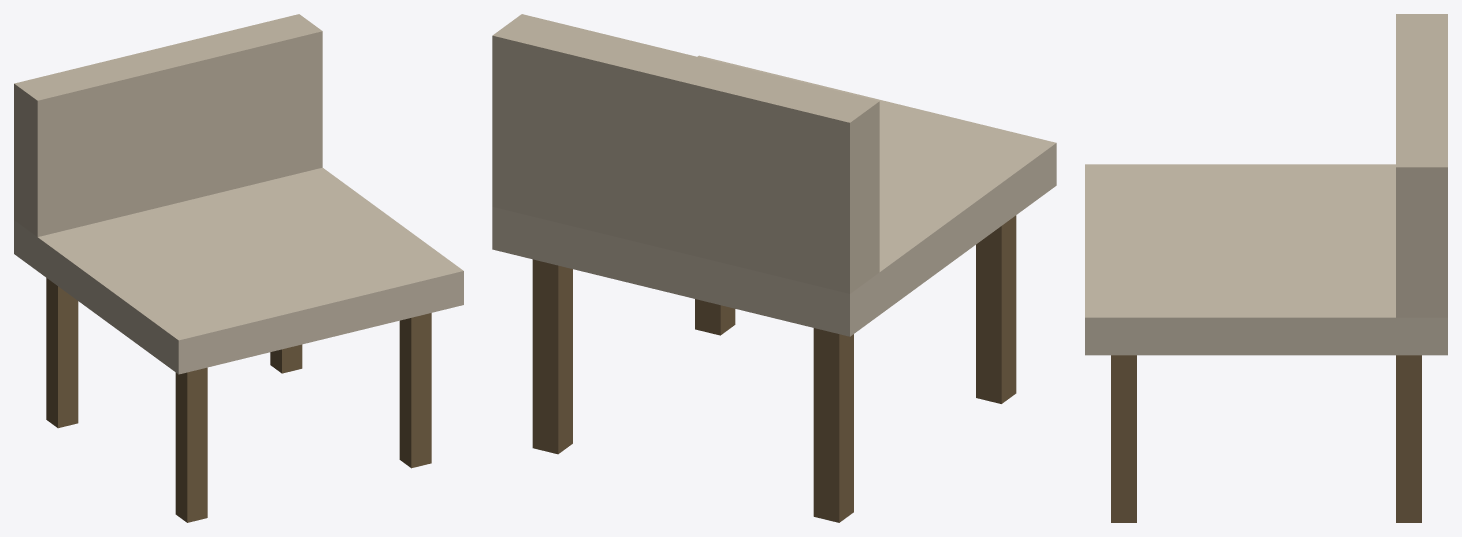
File: chair_nordic.glb
3 renders of one model, left to right at view 1: azimuth 30°, elevation 25°; view 2: azimuth 150°, elevation 25°; view 3: azimuth 270°, elevation 25°, orthographic. The views are drawn at different scales.
Bounding box in the file's own units: 0.7 × 0.78 × 0.7.
